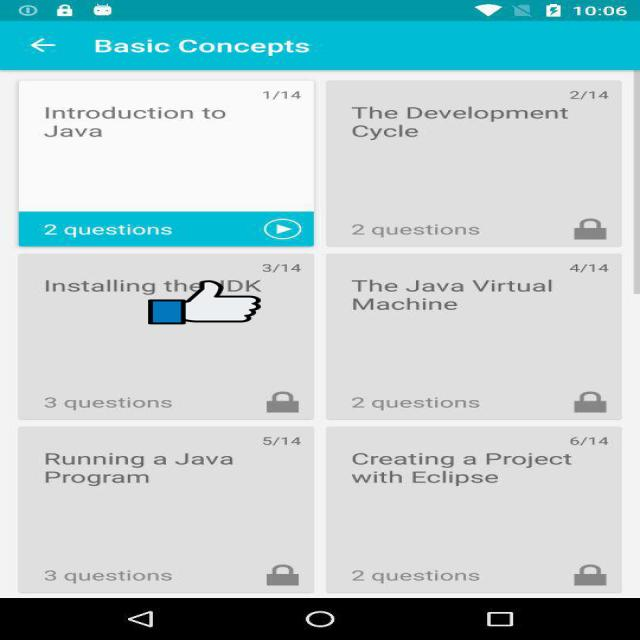privacy zuckering: (148, 280, 261, 326)
